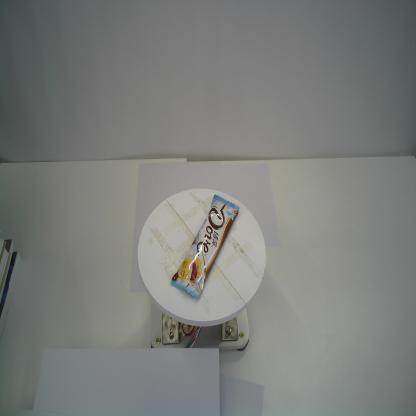Chocolate: (168, 193, 240, 303)
